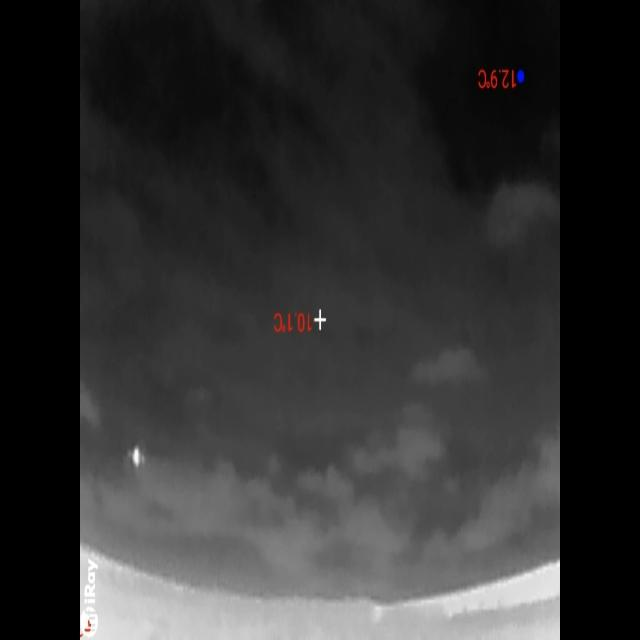drone: (126, 442, 148, 475)
